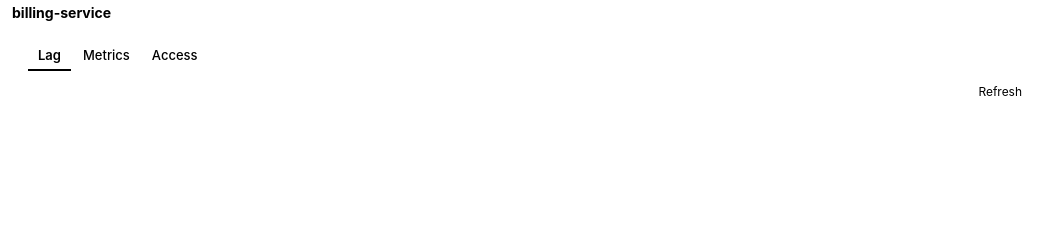
ConsumerGroupDetailPanel › shows the summed total lag
Click the button "Refresh".
click(1000, 92)  # box [964,78,1036,105]
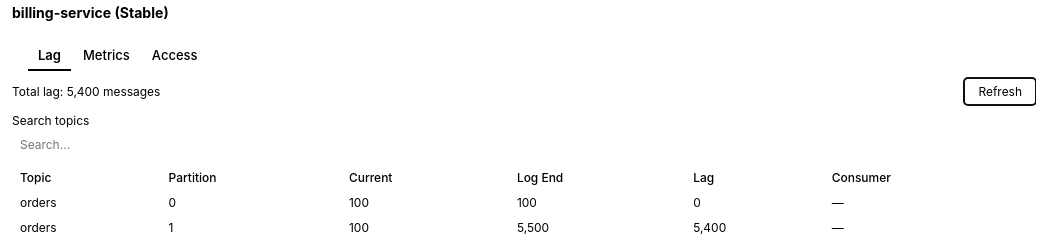
Now the text "Total lag: 5,400 messages" is shown, box [12,84,160,99]
